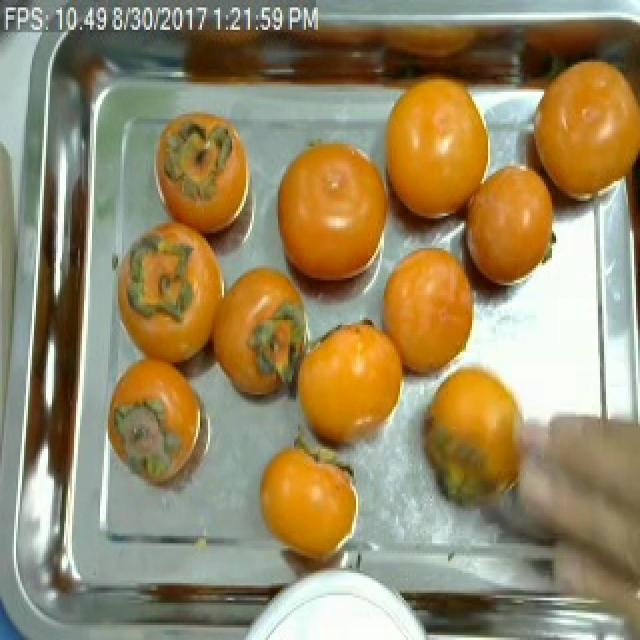Fruit: (496, 387, 640, 605), (260, 124, 396, 325), (278, 300, 428, 476), (406, 350, 540, 536), (516, 42, 640, 231), (374, 64, 500, 240), (368, 233, 490, 402), (102, 342, 220, 503), (144, 99, 264, 253), (450, 146, 566, 303), (246, 432, 364, 586)
